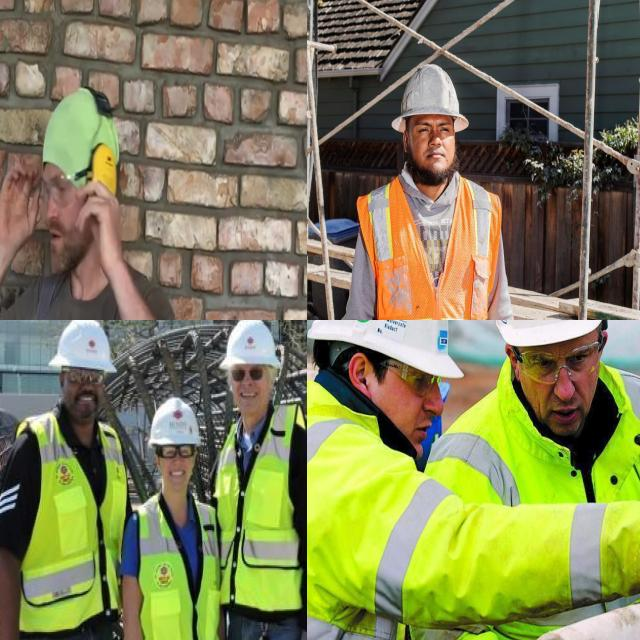Ear-protection: (43, 88, 119, 276)
No_Ear-Protection: (346, 347, 373, 398)
face_nomask: (371, 344, 456, 469), (526, 340, 616, 434), (403, 118, 461, 176), (58, 367, 106, 434), (228, 360, 268, 422), (156, 442, 194, 488)
glasses: (514, 337, 606, 386), (392, 356, 443, 394), (60, 365, 108, 389), (228, 360, 268, 384), (158, 440, 195, 460)
head_helmet: (307, 320, 466, 380), (392, 63, 468, 131), (45, 320, 120, 376), (214, 320, 287, 367), (493, 320, 615, 347), (143, 396, 206, 446)
person: (455, 320, 640, 631), (307, 320, 467, 640), (346, 62, 528, 320), (0, 320, 118, 640), (213, 320, 307, 640), (122, 395, 225, 640)
vest: (427, 359, 640, 640), (307, 375, 423, 640), (19, 411, 130, 608), (209, 412, 307, 613), (368, 169, 493, 320), (126, 491, 227, 640)
